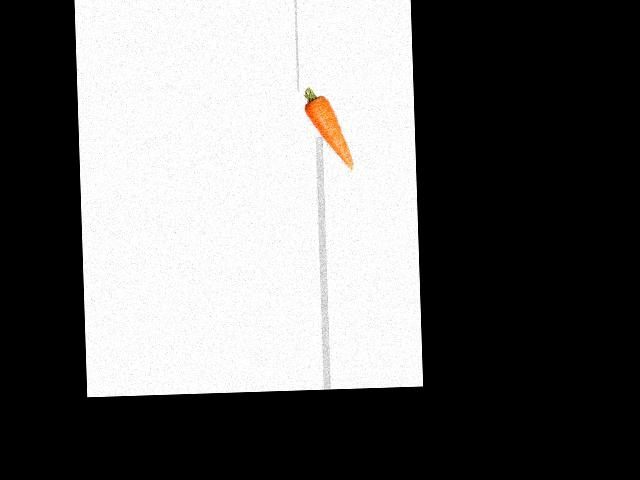carrot: (302, 86, 355, 171)
